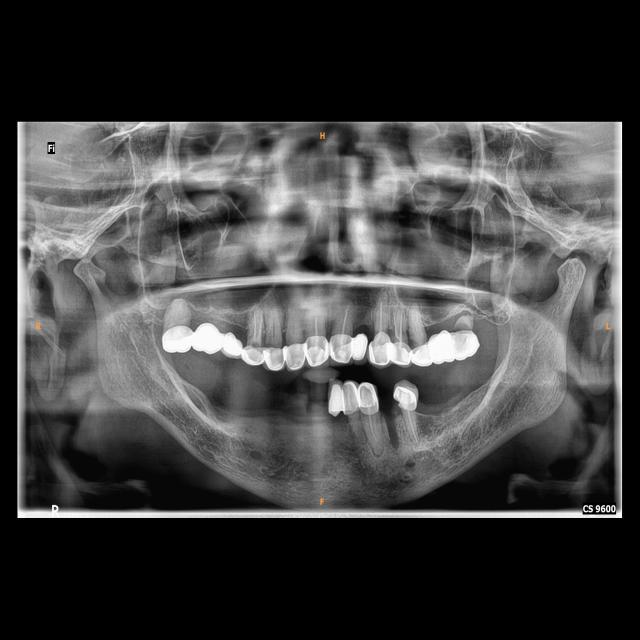kanal-tedavisi: (248, 309, 266, 343), (334, 306, 349, 337), (392, 305, 404, 339), (364, 415, 378, 441), (310, 310, 322, 340), (377, 300, 387, 336), (405, 411, 417, 439)
kaplama: (454, 327, 478, 359), (392, 382, 416, 409), (329, 334, 351, 363), (163, 329, 193, 350), (372, 332, 391, 364), (410, 341, 433, 367), (307, 338, 328, 365), (358, 383, 377, 411), (343, 381, 360, 411), (242, 343, 263, 367), (284, 341, 304, 366), (391, 338, 410, 364), (263, 348, 285, 370)
kopru: (190, 320, 244, 362), (426, 320, 456, 366), (326, 382, 348, 419), (350, 328, 372, 362)
